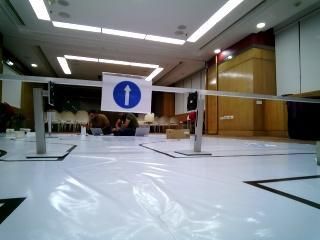straight: (104, 72, 150, 112)
